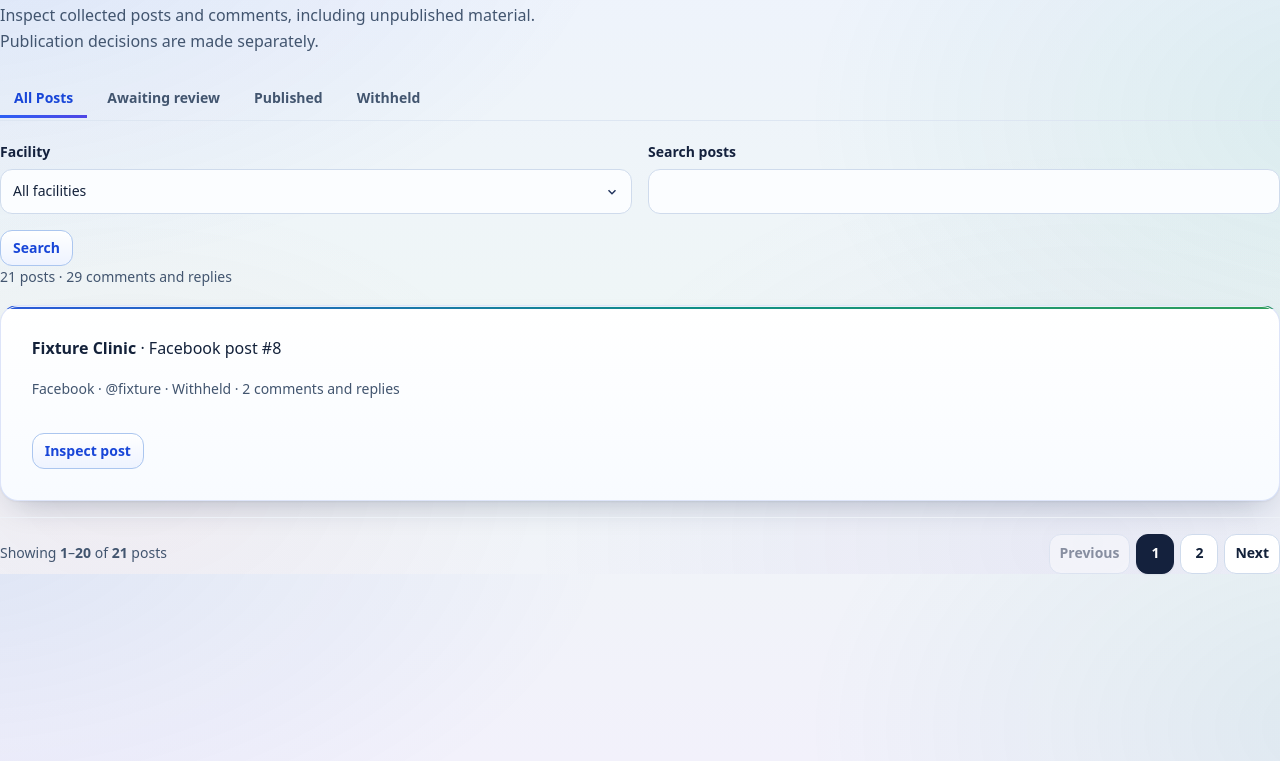
it: opens withheld Facebook feedback and its hidden replies for inspection without moderating
Expected: the tab "All Posts" is shown, left=0, top=79, right=87, bottom=121
Expected: the text "21 posts · 29 comments and replies" is shown, left=0, top=267, right=232, bottom=286
Click the button "Next" at (1252, 554), box left=1224, top=534, right=1279, bottom=574
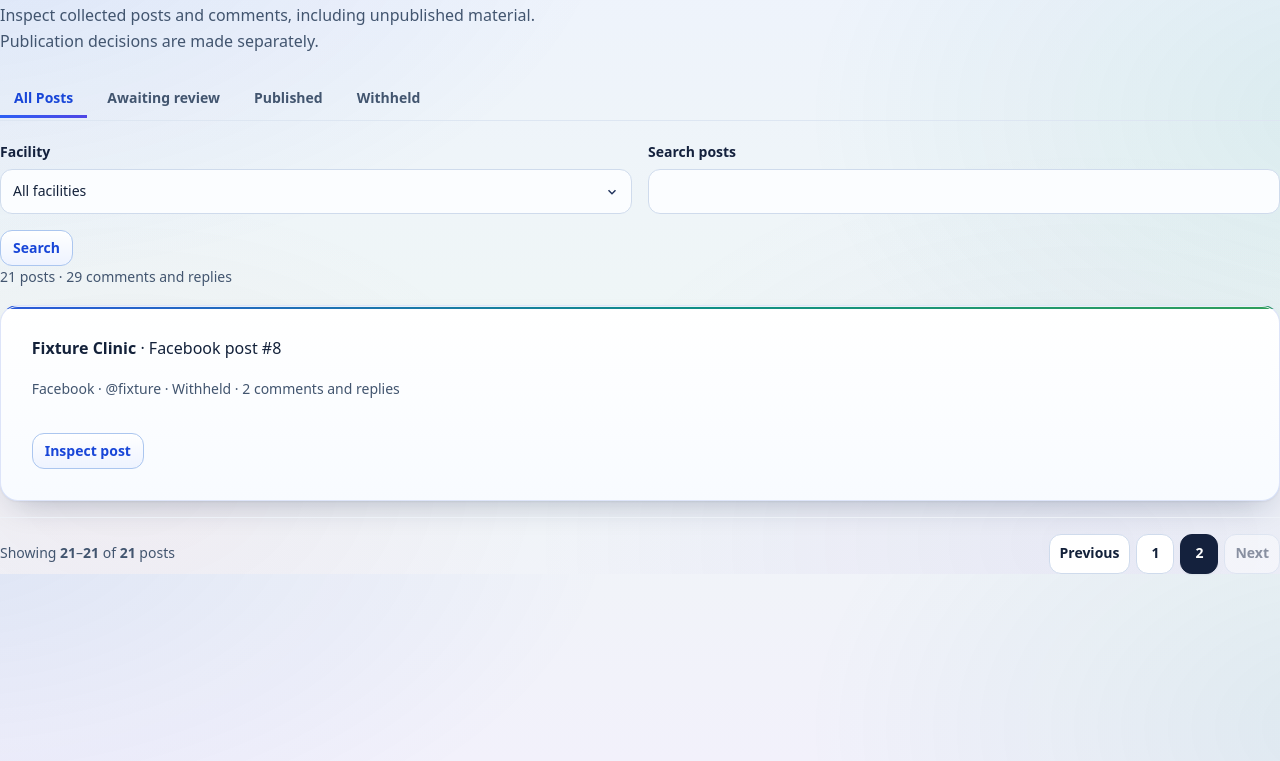
Select "Fixture Clinic" in the dropdown labelled "Facility" at (316, 192), box left=0, top=169, right=632, bottom=214
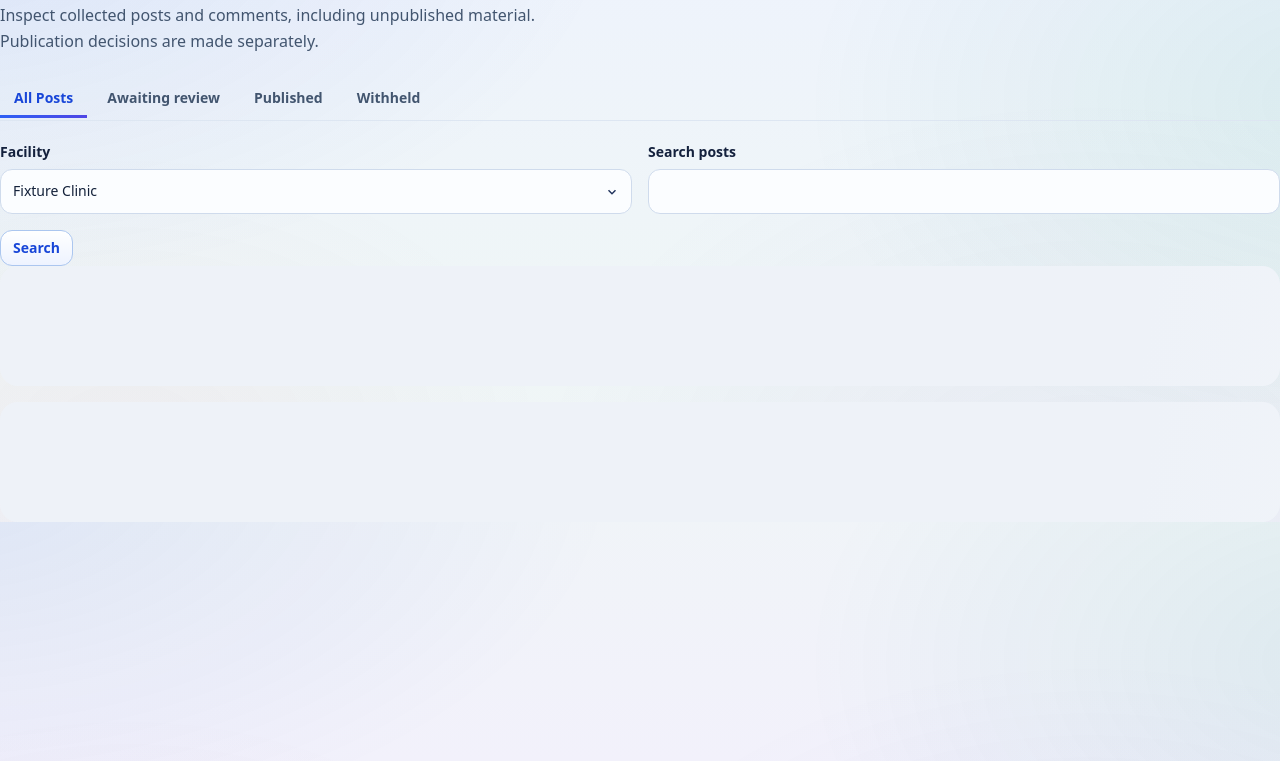
Type " fixture " into the search field labelled "Search posts" at (964, 192), box left=648, top=169, right=1279, bottom=214
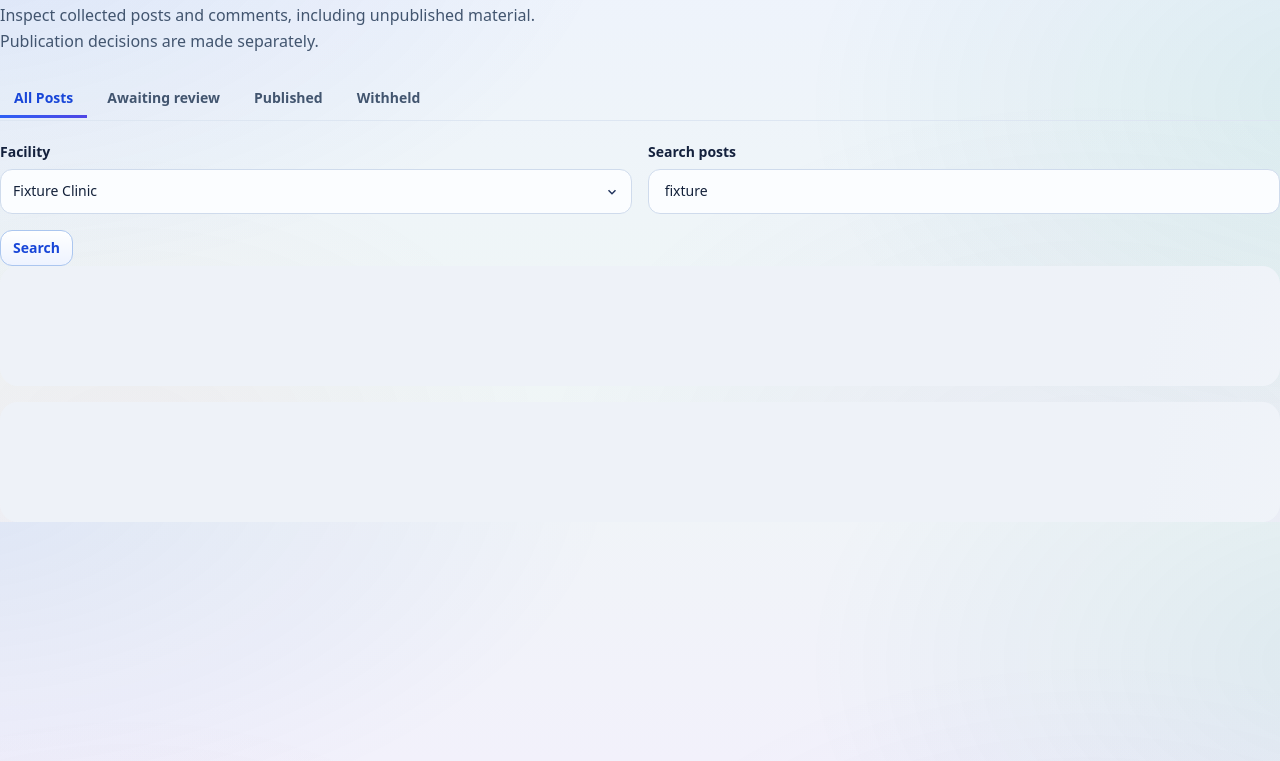
Click the button "Search" at (36, 248), box left=0, top=230, right=73, bottom=266
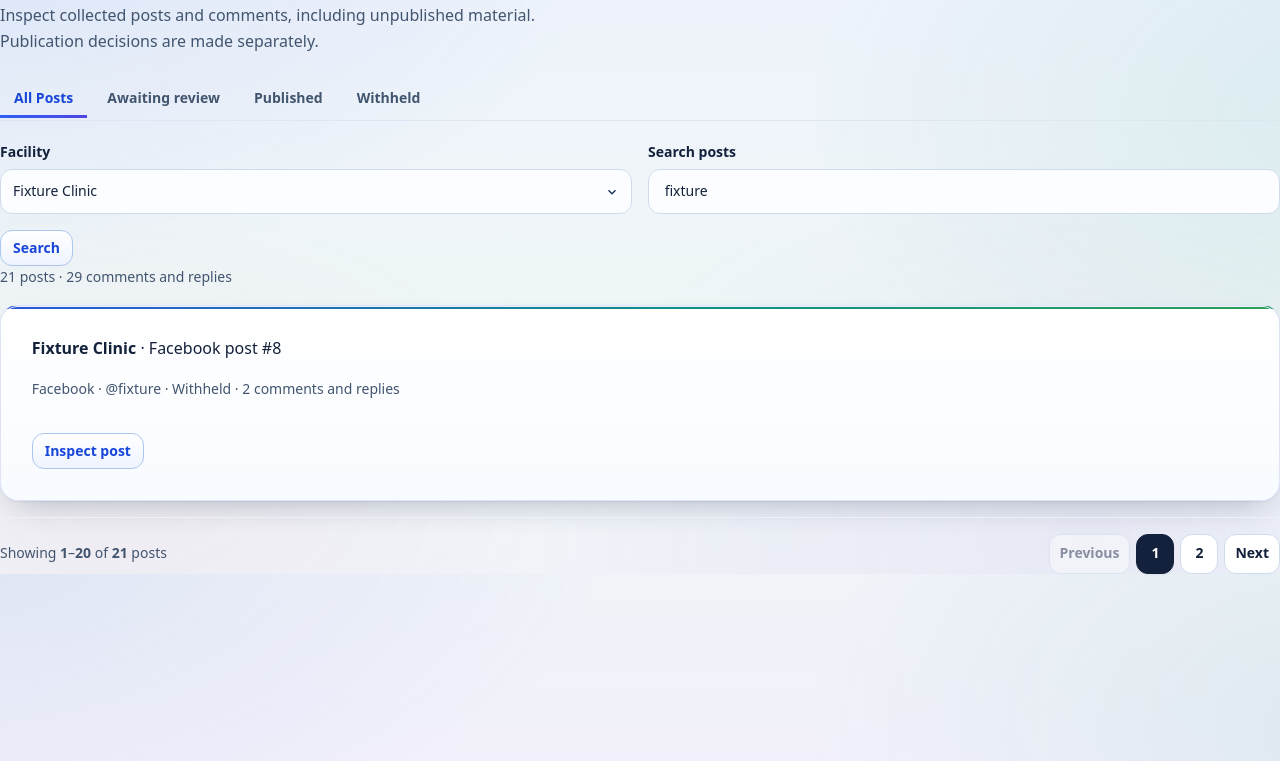
Expected: the text "Facebook · @fixture · Withheld · 2 comments and replies" is shown, left=32, top=379, right=400, bottom=398
Click the button "Inspect post" at (88, 451), box left=32, top=433, right=144, bottom=469
(page scrolled)
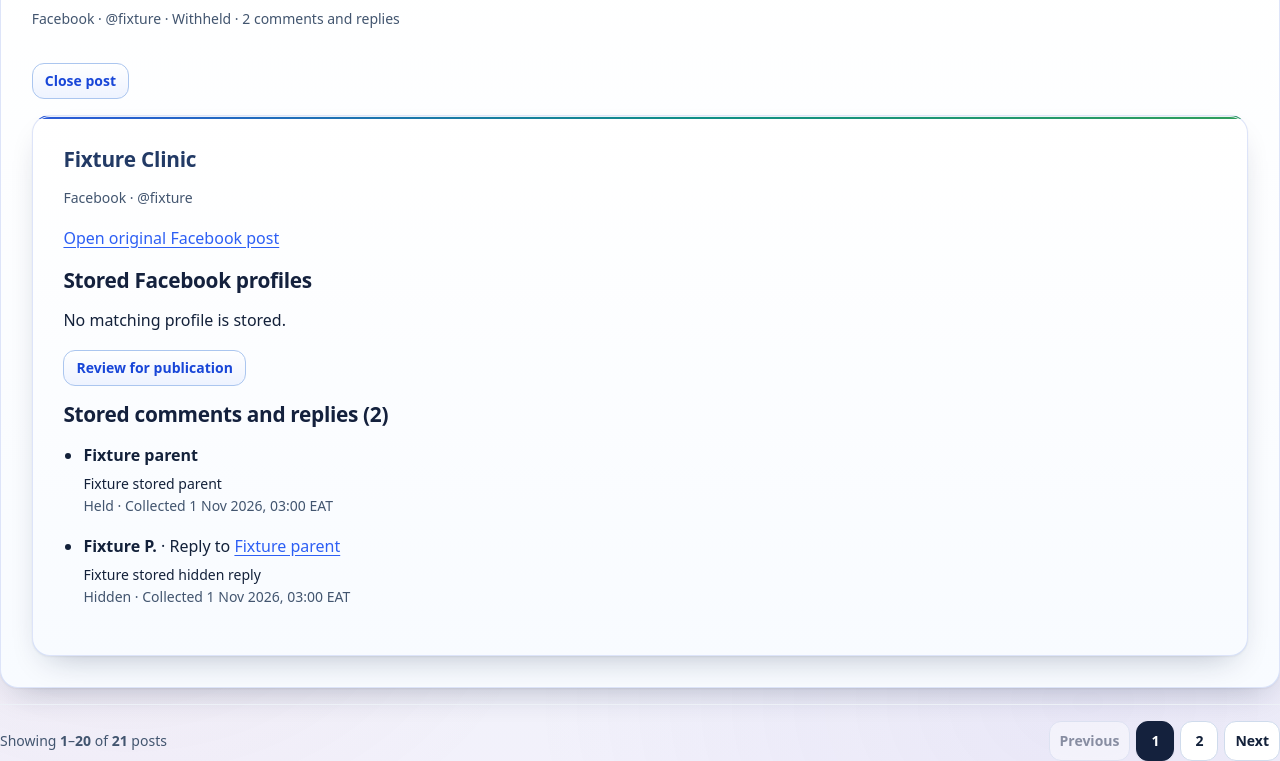
Expected: the heading "Stored comments and replies (2)" is shown, left=63, top=400, right=388, bottom=428
Expected: the text "Fixture stored parent" is shown, left=83, top=474, right=222, bottom=493
Expected: the text "Fixture stored hidden reply" is shown, left=83, top=564, right=261, bottom=584
